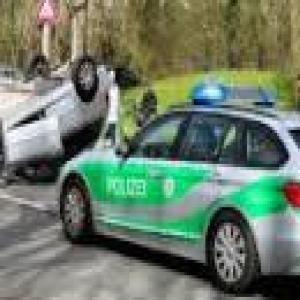serious: (0, 37, 115, 194)
